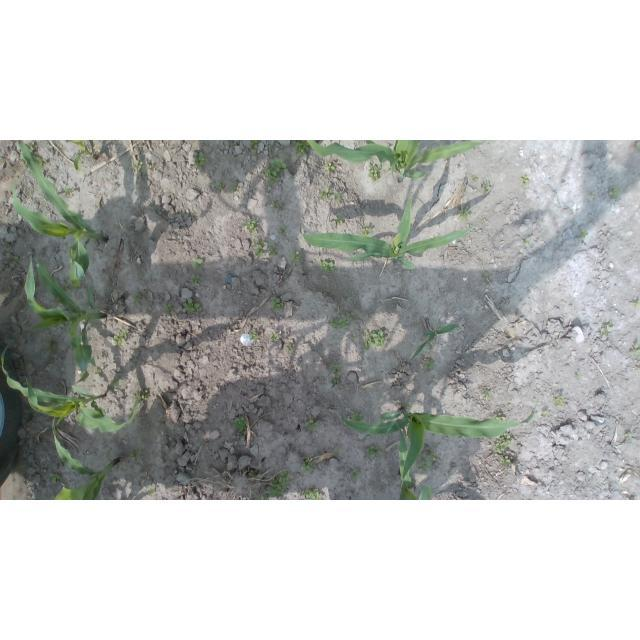Maize: (338, 406, 537, 490), (11, 140, 108, 288), (299, 194, 477, 270), (2, 344, 141, 432), (23, 254, 107, 383), (307, 141, 488, 184), (51, 417, 119, 500), (391, 418, 434, 500), (410, 324, 460, 361), (66, 141, 99, 172)
Weeds: (267, 471, 291, 498), (263, 158, 287, 185), (362, 330, 385, 350), (492, 432, 511, 452), (42, 336, 59, 355), (303, 485, 324, 500), (232, 418, 247, 439), (329, 315, 350, 329), (183, 298, 201, 313), (252, 238, 265, 258), (194, 151, 210, 167), (294, 140, 310, 156), (368, 163, 381, 182), (301, 457, 316, 473), (271, 296, 285, 313), (245, 217, 258, 235), (417, 457, 432, 472), (366, 445, 382, 459), (270, 199, 286, 213), (114, 330, 128, 345), (599, 321, 614, 335), (319, 260, 334, 273), (458, 205, 471, 220), (351, 410, 365, 423), (255, 489, 269, 500), (349, 469, 360, 483), (305, 421, 319, 432), (629, 343, 640, 357), (330, 363, 342, 375), (608, 186, 620, 198), (48, 474, 61, 485), (64, 186, 75, 199), (320, 188, 331, 201), (482, 181, 491, 196), (190, 274, 201, 286), (191, 259, 203, 270), (324, 162, 335, 174), (289, 252, 301, 263), (268, 244, 279, 256), (499, 455, 511, 466), (215, 180, 225, 193), (362, 225, 373, 236), (519, 174, 529, 186), (330, 378, 342, 388), (428, 450, 438, 462), (111, 377, 122, 387), (131, 292, 141, 303), (25, 142, 35, 153), (554, 395, 565, 405), (494, 413, 506, 422), (346, 312, 359, 320), (130, 449, 140, 459), (11, 255, 22, 264), (37, 157, 48, 166), (135, 160, 144, 171), (334, 192, 343, 203), (336, 215, 345, 226), (279, 225, 288, 236), (387, 164, 397, 173), (249, 140, 259, 149), (269, 332, 279, 341), (578, 229, 588, 238), (164, 303, 172, 314), (140, 390, 148, 401), (425, 359, 433, 370), (52, 296, 61, 305), (524, 236, 533, 245), (4, 244, 14, 252), (230, 183, 238, 193), (249, 332, 259, 340), (249, 469, 258, 477), (61, 277, 69, 286), (631, 300, 640, 308), (149, 486, 156, 496), (287, 343, 296, 350), (624, 433, 632, 440), (405, 402, 411, 411), (589, 189, 596, 196), (133, 392, 139, 400), (483, 272, 489, 280), (483, 391, 491, 397), (575, 372, 581, 380), (335, 445, 341, 452), (351, 334, 357, 341), (541, 412, 549, 417), (636, 142, 640, 151), (95, 370, 102, 375), (472, 176, 479, 181), (297, 429, 302, 434), (437, 325, 442, 330), (233, 141, 237, 146)
